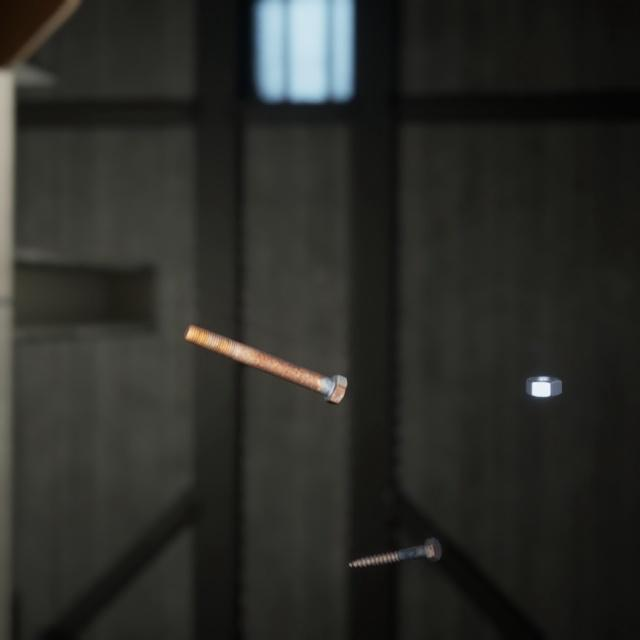bolt: (178, 300, 351, 390), (344, 511, 445, 550)
nut: (521, 352, 566, 382)
